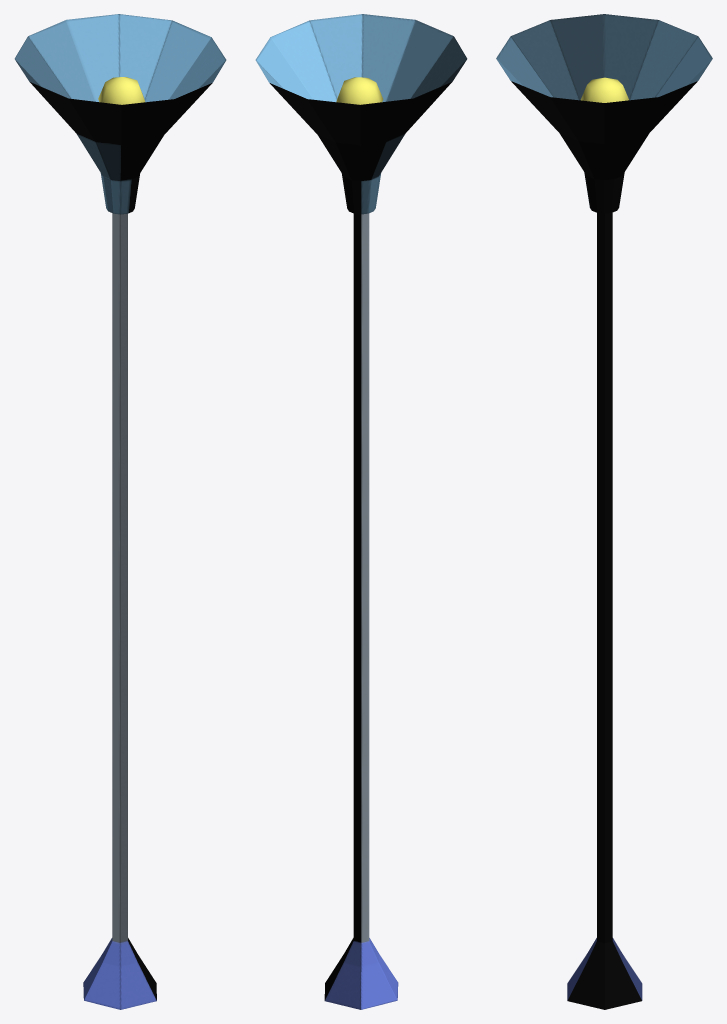
File: MD_Standing Lamp.FBX
3 renders of one model, left to right at view 1: azimuth 30°, elevation 25°; view 2: azimuth 150°, elevation 25°; view 3: azimuth 270°, elevation 25°, orthographic.
Parts seen in each view (by area): view 1: MD_Standing Lamp, MD_Lamp in lamp001; view 2: MD_Standing Lamp, MD_Lamp in lamp001; view 3: MD_Standing Lamp, MD_Lamp in lamp001.
Boxes of the visible parts, x1,y1,x2,y2 form: MD_Standing Lamp: (14, 14, 226, 1009); MD_Lamp in lamp001: (98, 77, 145, 104); MD_Standing Lamp: (255, 14, 467, 1009); MD_Lamp in lamp001: (336, 77, 383, 104); MD_Standing Lamp: (496, 14, 712, 1009); MD_Lamp in lamp001: (580, 77, 628, 102).
Size of the model in its own units: 32.57 by 159 by 33.51.
2 materials, 1 textured.
